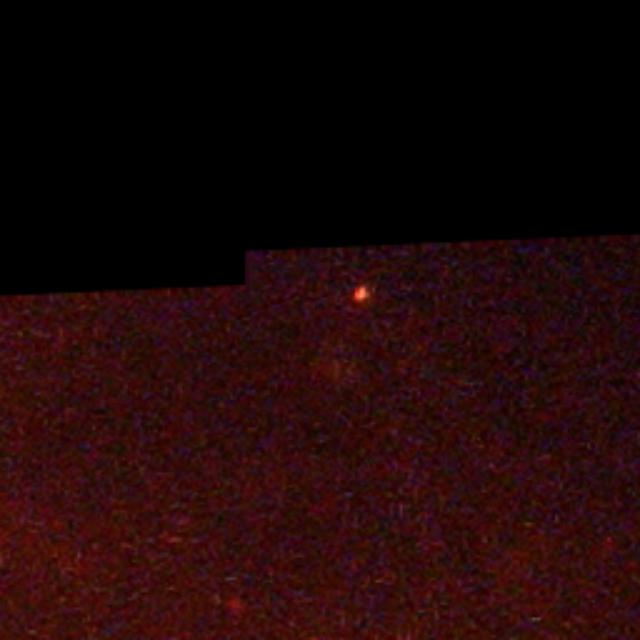Fragment: (353, 282, 375, 308)
